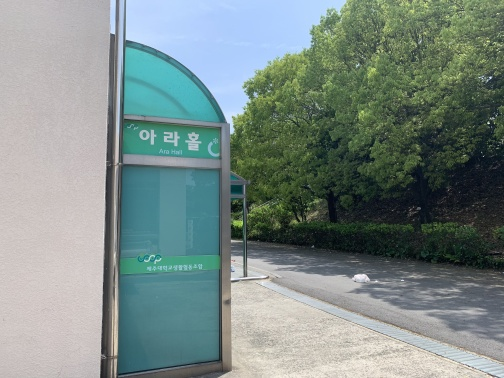Ara Hall: (70, 34, 252, 378)
